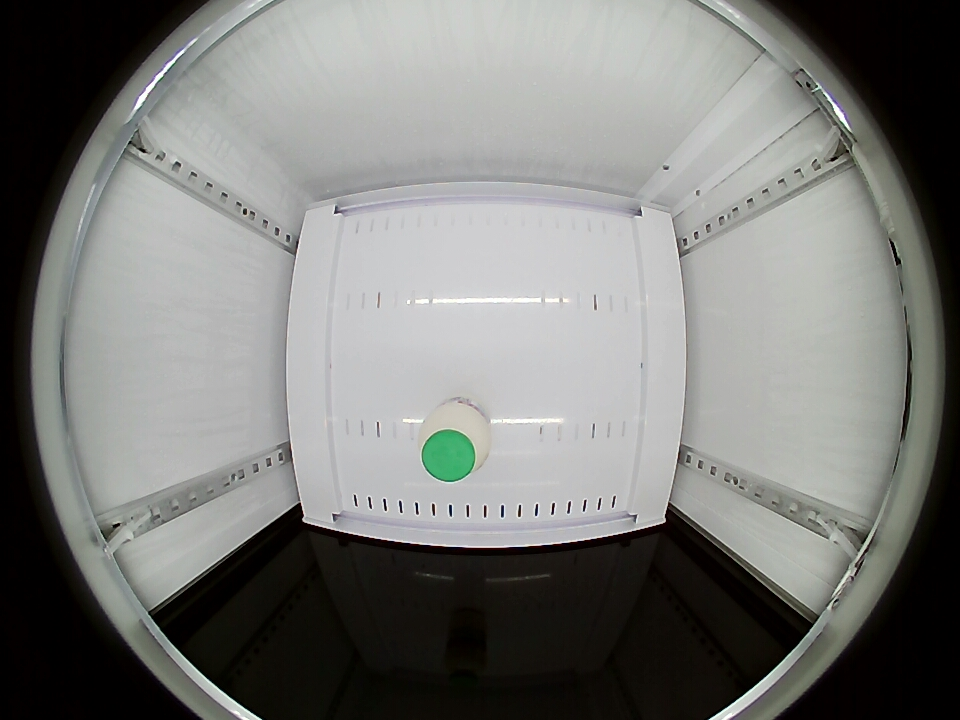liziyuan: (419, 399, 492, 483)
